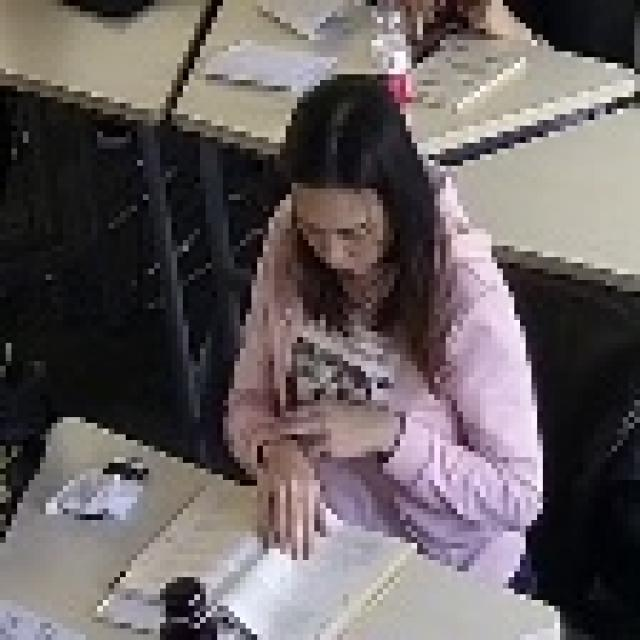write: (190, 79, 573, 610)
